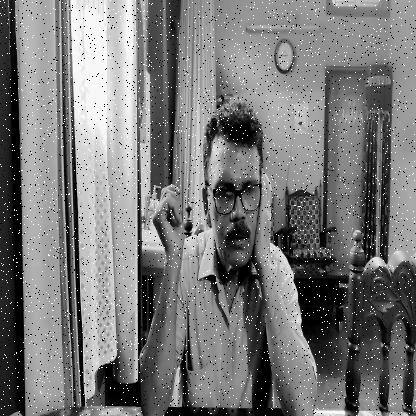Normal: (203, 99, 265, 282)
